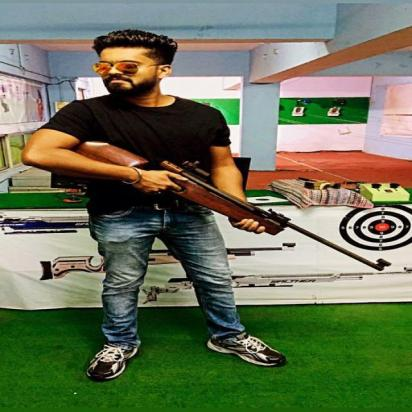Gun: (73, 138, 394, 272)
